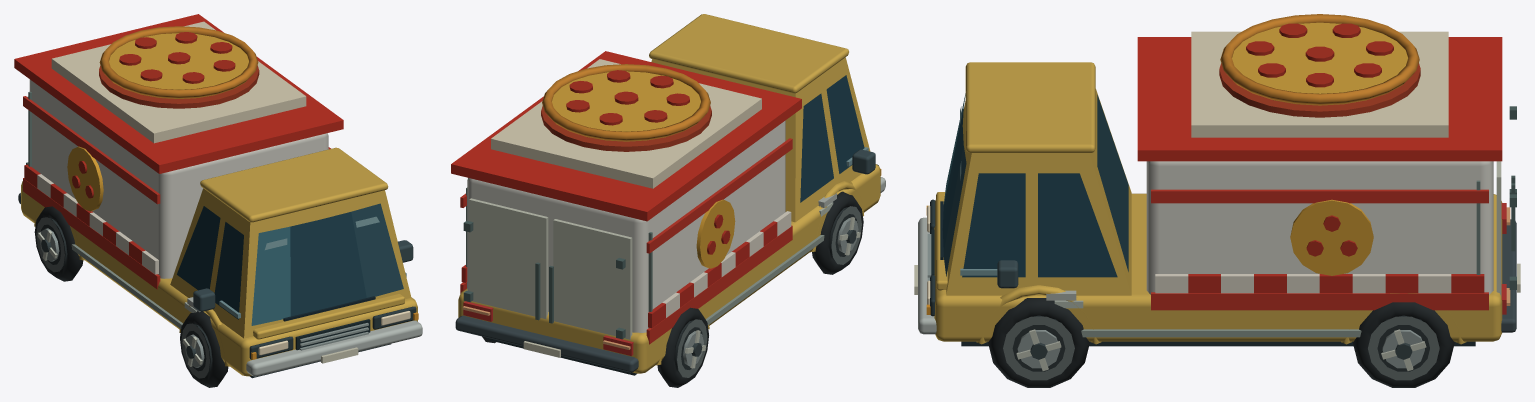
The model's file is pizza.glb.
3 renders of one model, left to right at view 1: azimuth 30°, elevation 25°; view 2: azimuth 150°, elevation 25°; view 3: azimuth 270°, elevation 25°, orthographic. The views are drawn at different scales.
Parts seen in each view (by area): view 1: pizza_body; view 2: pizza_body; view 3: pizza_body.
Part boxes in pixels (x1,y1,x2,y2): pizza_body: (14, 14, 422, 387); pizza_body: (451, 14, 885, 387); pizza_body: (914, 14, 1520, 387).
Size of the model in its own units: 2.39 by 2.4 by 4.66.
